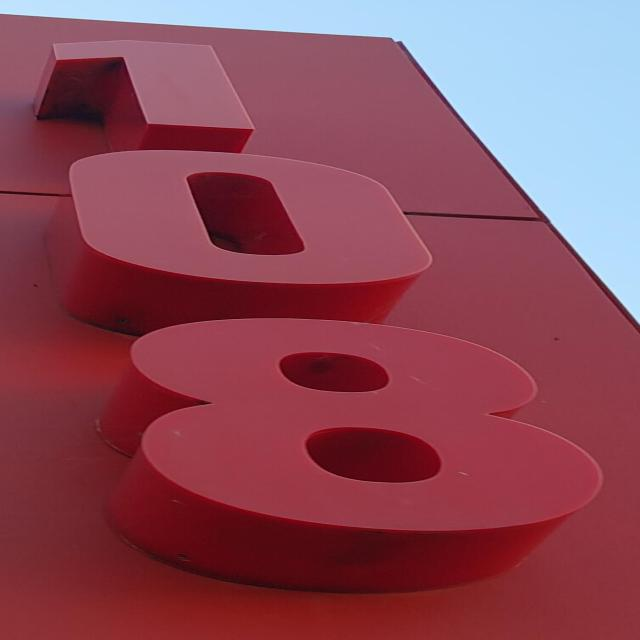character: (116, 310, 618, 538), (57, 144, 454, 288), (31, 29, 268, 139)
